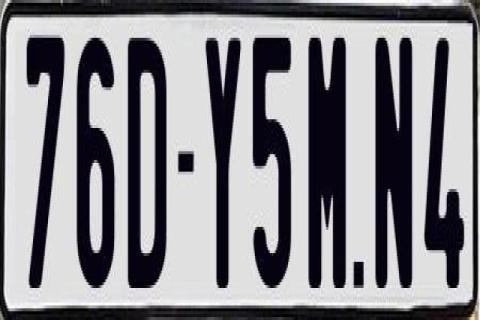0: (253, 29, 296, 279), (27, 35, 67, 297), (424, 35, 462, 297), (73, 32, 111, 285)
D: (126, 38, 169, 291)
M: (307, 38, 345, 300)
N: (374, 35, 417, 288)
Y: (205, 38, 241, 288)
